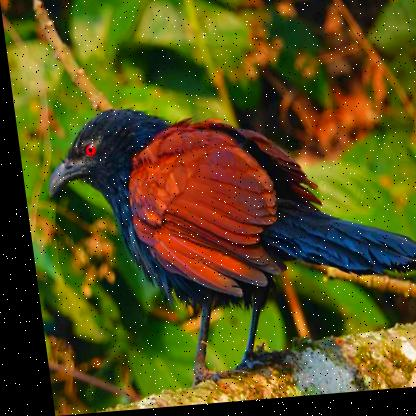Burung: (36, 90, 415, 396)
